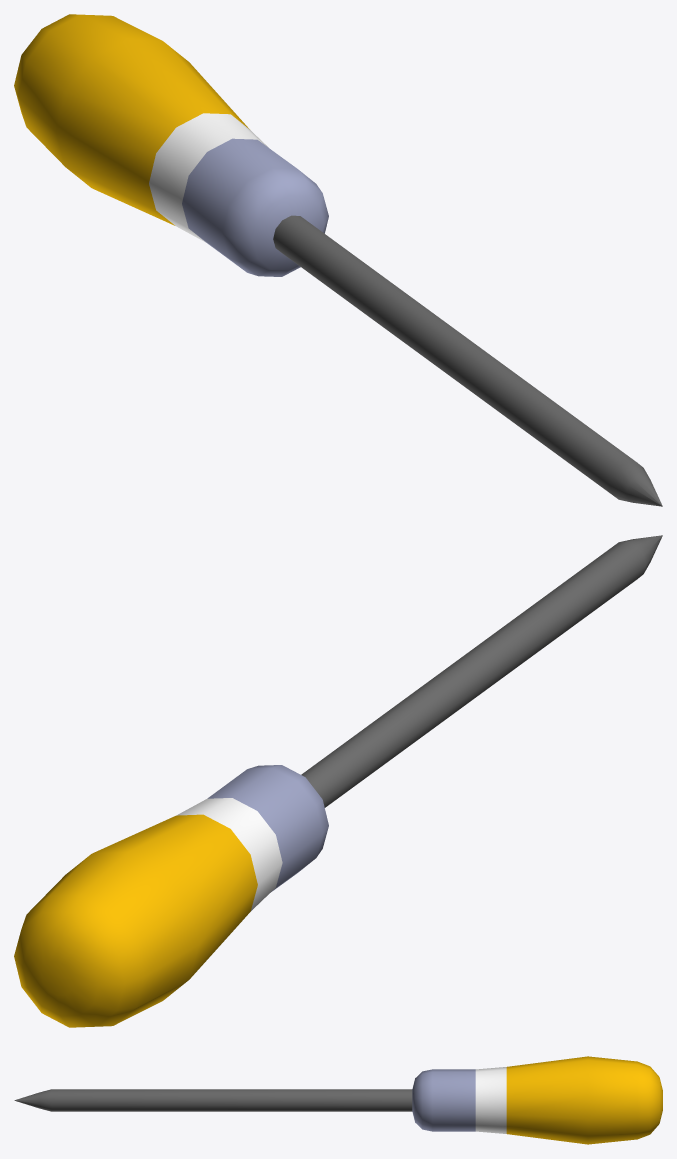
The model's file is Screwdriver_2.fbx.
3 renders of one model, top to bottom at view 1: azimuth 30°, elevation 25°; view 2: azimuth 150°, elevation 25°; view 3: azimuth 270°, elevation 25°, orthographic. The views are drawn at different scales.
Visible parts, largest first — view 1: Screwdriver_2; view 2: Screwdriver_2; view 3: Screwdriver_2.
Boxes of the visible parts, x1=… form: Screwdriver_2: x1=14, y1=14, x2=662, y2=506; Screwdriver_2: x1=14, y1=535, x2=662, y2=1027; Screwdriver_2: x1=14, y1=1056, x2=662, y2=1144.
Size of the model in its own units: 0.0501 by 0.0501 by 0.3675.
